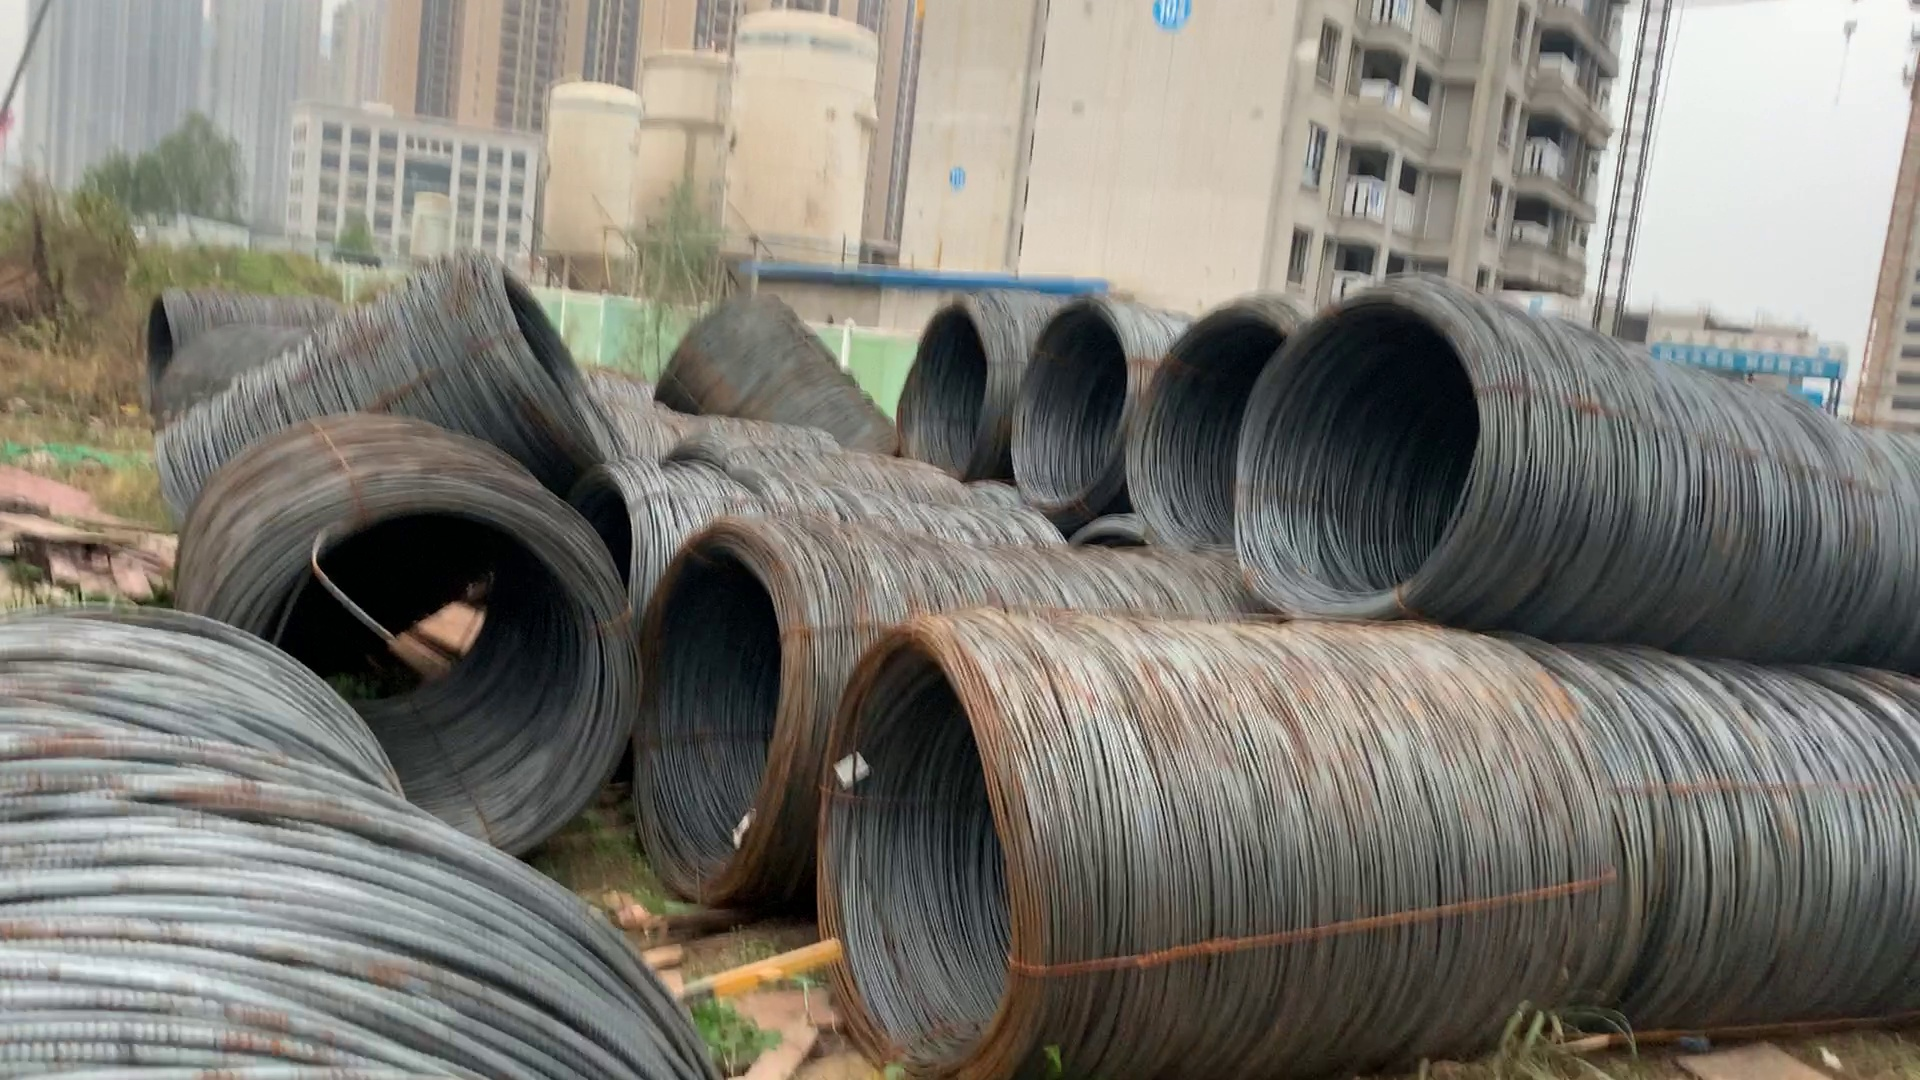coil: (224, 488, 629, 874), (818, 626, 1038, 1073), (1232, 302, 1490, 621), (626, 513, 818, 916), (1121, 310, 1296, 568), (488, 262, 626, 491), (1013, 302, 1139, 518), (899, 302, 1000, 485), (138, 287, 179, 415)
